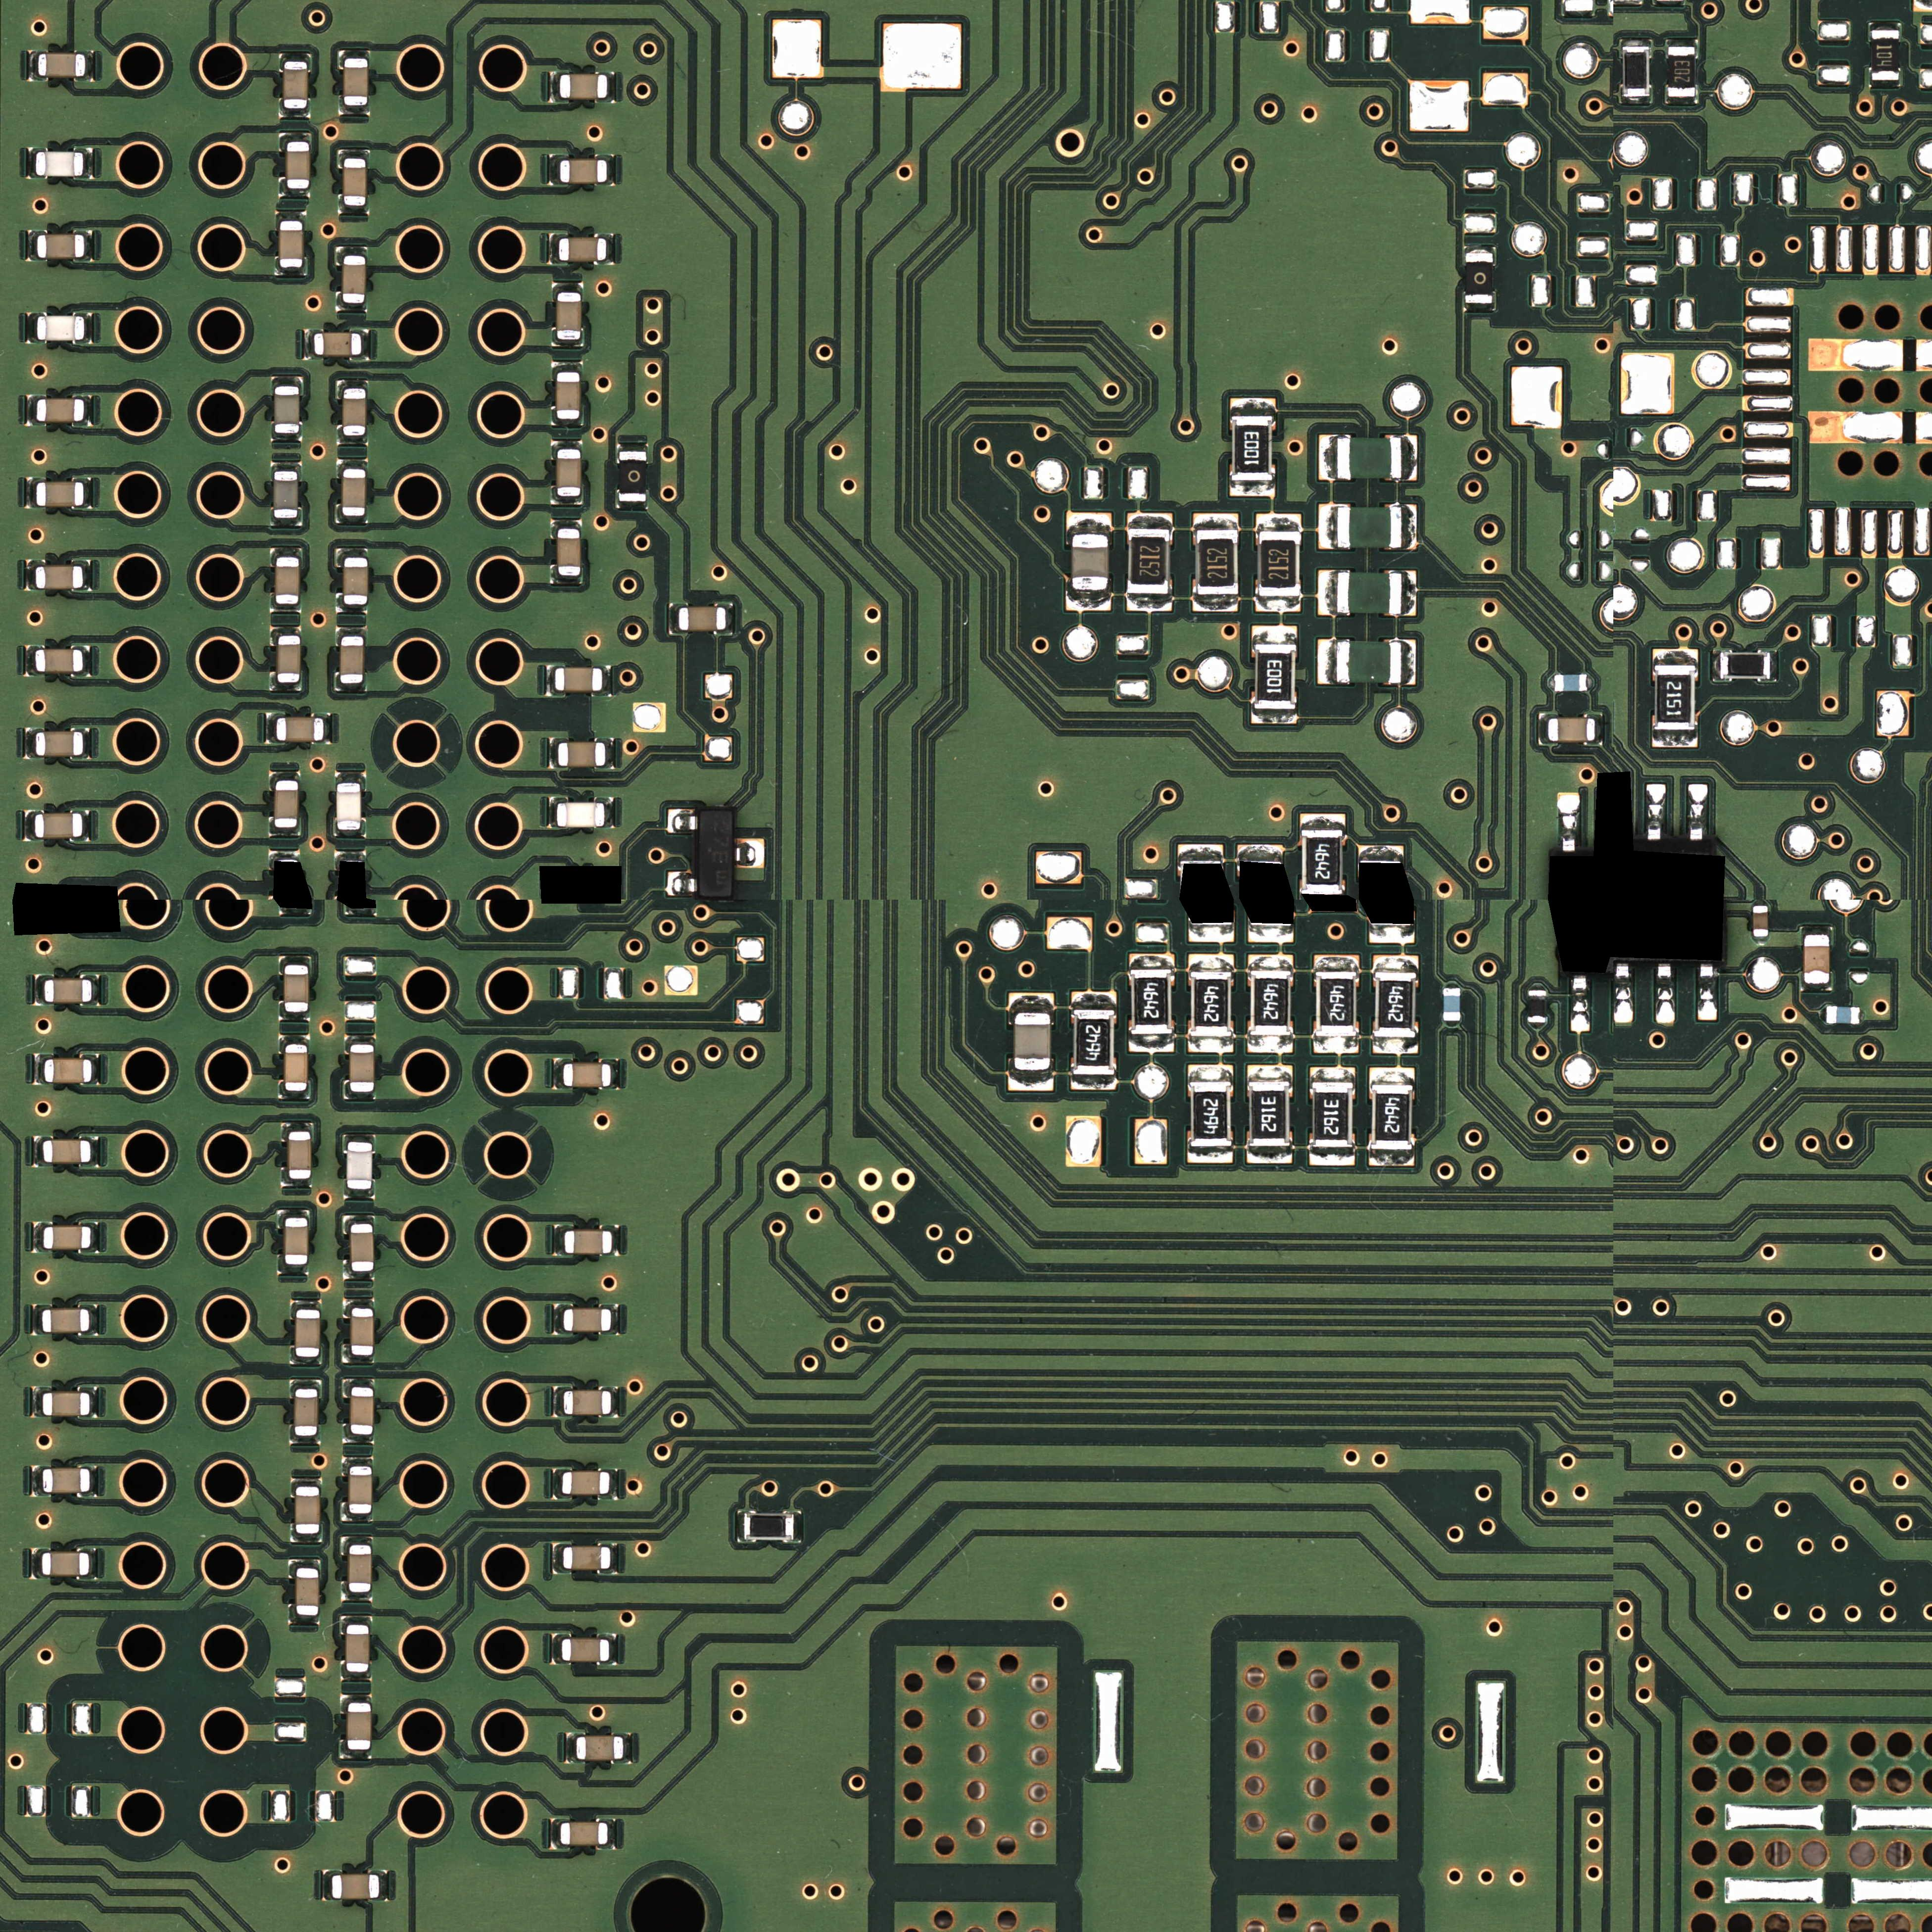Package: (699, 809, 733, 898), (1302, 830, 1345, 894), (1337, 437, 1402, 479), (1131, 970, 1172, 1035), (1258, 532, 1300, 597), (1128, 530, 1169, 594), (1336, 642, 1402, 682), (1336, 574, 1402, 614), (1337, 508, 1403, 548), (1654, 666, 1695, 730), (1312, 1083, 1352, 1148), (1375, 972, 1415, 1038), (1073, 1011, 1114, 1075), (1191, 972, 1231, 1037), (1251, 971, 1291, 1036), (1250, 1082, 1290, 1147), (1197, 531, 1237, 595), (1255, 645, 1295, 709), (1372, 1085, 1412, 1150), (1191, 1082, 1231, 1147), (1232, 417, 1272, 481), (1316, 972, 1356, 1036), (1014, 1013, 1051, 1070), (1071, 534, 1109, 590), (1465, 253, 1493, 303), (1668, 47, 1695, 97), (620, 451, 646, 501), (1872, 30, 1898, 80), (744, 1514, 794, 1540), (1721, 653, 1770, 679), (1623, 47, 1649, 97), (1804, 935, 1830, 984), (346, 1703, 372, 1750), (564, 1390, 611, 1415), (37, 316, 85, 341), (560, 74, 607, 99), (36, 482, 84, 507), (35, 813, 82, 838), (36, 731, 83, 757), (557, 803, 605, 827), (558, 742, 606, 767), (36, 151, 83, 177), (295, 1487, 320, 1534), (295, 1309, 320, 1357), (557, 292, 581, 340), (332, 1875, 380, 1899), (555, 668, 603, 692), (348, 1545, 372, 1593), (556, 449, 581, 496), (337, 783, 361, 830), (43, 1468, 90, 1493), (347, 1143, 372, 1189), (678, 607, 726, 631), (350, 1044, 374, 1092), (559, 238, 606, 262), (343, 557, 368, 605), (345, 1625, 370, 1672), (576, 1737, 624, 1761), (563, 1063, 611, 1087), (37, 234, 85, 258), (283, 62, 308, 108), (275, 386, 299, 433), (561, 1639, 609, 1662), (38, 53, 86, 77), (45, 1059, 92, 1083), (284, 965, 308, 1012), (274, 780, 298, 827), (45, 979, 92, 1003), (560, 1822, 608, 1846), (42, 1309, 90, 1333), (560, 159, 607, 183), (42, 1552, 89, 1576), (564, 1230, 612, 1254), (275, 557, 299, 604), (274, 472, 298, 518), (343, 59, 368, 105), (1548, 718, 1595, 742), (556, 372, 580, 419), (43, 1393, 90, 1416), (294, 1389, 318, 1436), (348, 1466, 372, 1513), (276, 718, 323, 741), (562, 1472, 610, 1495), (563, 1308, 611, 1332), (342, 256, 366, 303), (288, 1131, 311, 1179), (342, 469, 366, 516), (35, 649, 83, 673), (563, 1546, 610, 1570), (37, 399, 84, 422), (342, 388, 366, 435), (350, 1387, 374, 1434), (44, 1226, 91, 1250), (296, 1568, 319, 1615), (36, 566, 83, 589), (44, 1140, 91, 1163), (350, 1308, 374, 1355), (287, 142, 310, 189), (340, 636, 364, 683), (280, 221, 303, 267), (277, 636, 300, 682), (314, 333, 361, 356), (557, 529, 580, 576), (350, 1224, 373, 1271), (285, 1218, 308, 1264), (285, 1045, 307, 1091), (343, 158, 366, 205), (1527, 990, 1547, 1023), (1827, 1007, 1860, 1024), (1554, 675, 1587, 691), (1444, 988, 1460, 1021), (1753, 906, 1768, 936)
Solder: (1645, 784, 1667, 841), (1614, 964, 1634, 1025), (1559, 792, 1579, 851), (1655, 963, 1674, 1023), (1688, 783, 1708, 839), (1571, 974, 1590, 1032), (1698, 965, 1718, 1020), (1066, 512, 1111, 533), (1065, 590, 1111, 611), (1009, 993, 1054, 1012), (1008, 1072, 1054, 1092), (735, 839, 764, 868), (1318, 571, 1336, 616), (1192, 595, 1239, 612), (1129, 1035, 1174, 1053), (1309, 1149, 1355, 1166), (1318, 640, 1336, 684), (1652, 731, 1698, 748), (1248, 1036, 1293, 1053), (1188, 1064, 1233, 1081), (1238, 844, 1283, 861), (1127, 595, 1172, 612), (1319, 505, 1336, 549), (1319, 435, 1336, 480), (1247, 1147, 1292, 1164), (1256, 514, 1301, 531), (1253, 627, 1297, 644), (1071, 993, 1116, 1010), (1248, 1065, 1293, 1081), (1230, 399, 1275, 415), (667, 871, 697, 896), (1369, 1151, 1415, 1166), (1373, 1038, 1419, 1054), (1189, 955, 1234, 971), (1374, 956, 1418, 972), (1314, 1037, 1358, 1053), (1249, 926, 1294, 942), (1371, 926, 1414, 943), (1180, 844, 1223, 861), (1071, 1075, 1118, 1091), (1300, 813, 1347, 828), (1653, 649, 1698, 665), (668, 809, 698, 832), (1188, 1037, 1233, 1053), (1370, 1068, 1415, 1084), (1230, 482, 1275, 497), (1188, 1148, 1233, 1163), (1189, 925, 1233, 941), (1249, 955, 1293, 970), (1314, 956, 1358, 971), (1127, 514, 1172, 529), (1251, 710, 1298, 724), (1129, 954, 1174, 969), (1256, 597, 1301, 612), (1194, 514, 1238, 529), (1403, 435, 1417, 481), (1402, 505, 1417, 550), (1310, 1067, 1355, 1082), (1359, 846, 1403, 860), (1402, 571, 1416, 616), (1402, 639, 1416, 685), (553, 1224, 564, 1256), (265, 713, 276, 743), (303, 329, 314, 359), (32, 1466, 42, 1497), (335, 772, 366, 782), (555, 419, 585, 429), (271, 376, 303, 386), (549, 71, 559, 103), (552, 282, 583, 292), (321, 1870, 331, 1901), (548, 233, 558, 264), (553, 1304, 564, 1334), (270, 547, 303, 557), (552, 362, 582, 372), (552, 1543, 562, 1574), (290, 1379, 322, 1389), (271, 461, 301, 471), (338, 459, 368, 469), (279, 956, 310, 965), (545, 665, 555, 697), (609, 73, 618, 104), (25, 728, 35, 758), (279, 1265, 309, 1275), (1538, 713, 1547, 744), (27, 395, 36, 426), (345, 1035, 376, 1044), (554, 1386, 563, 1417), (336, 627, 367, 636), (279, 1035, 310, 1044), (669, 603, 678, 634), (337, 246, 367, 255), (341, 1615, 372, 1625), (344, 1189, 375, 1199), (726, 604, 736, 635), (610, 1635, 619, 1666), (279, 133, 311, 142), (276, 211, 306, 221), (32, 1548, 41, 1579), (380, 1870, 389, 1900), (343, 1673, 374, 1683), (340, 1694, 372, 1703), (341, 1750, 373, 1759), (90, 1304, 99, 1336), (91, 1387, 100, 1419), (604, 664, 613, 696), (25, 811, 34, 841), (343, 1215, 375, 1224), (34, 1221, 43, 1253), (554, 1058, 563, 1089), (35, 1054, 44, 1085), (92, 1221, 101, 1253), (91, 1465, 100, 1496), (91, 1548, 99, 1579), (609, 1468, 618, 1499), (347, 1273, 378, 1282), (342, 1378, 375, 1387), (290, 1357, 323, 1365), (271, 518, 303, 527), (270, 627, 301, 635), (552, 1634, 561, 1664), (339, 106, 370, 115), (549, 738, 558, 769), (338, 380, 368, 388), (84, 147, 93, 178), (567, 1733, 576, 1763), (550, 154, 559, 185), (607, 155, 616, 186), (606, 234, 615, 264), (93, 1054, 101, 1085), (606, 738, 615, 769), (336, 605, 368, 613), (336, 548, 368, 557), (344, 1299, 374, 1308), (343, 1457, 373, 1466), (270, 771, 300, 780), (339, 49, 370, 58), (27, 149, 36, 179), (85, 230, 94, 260), (87, 50, 96, 81), (29, 50, 38, 80), (272, 828, 302, 837), (336, 850, 366, 859), (289, 1559, 320, 1568), (291, 1300, 321, 1309), (551, 520, 581, 529), (553, 1469, 562, 1498), (361, 330, 370, 359), (290, 1534, 322, 1543), (279, 109, 310, 117), (343, 1435, 374, 1443), (279, 189, 310, 197), (337, 436, 368, 444), (338, 149, 370, 158), (32, 1304, 41, 1336), (323, 714, 332, 743), (335, 516, 367, 524), (342, 1355, 375, 1363), (339, 303, 370, 312), (26, 645, 35, 676), (338, 206, 369, 214), (27, 478, 36, 508), (36, 975, 44, 1006), (34, 1387, 42, 1417), (280, 53, 310, 61), (91, 1136, 99, 1167), (1464, 243, 1495, 252), (552, 440, 582, 449), (28, 313, 37, 343), (548, 797, 556, 827), (272, 683, 302, 691), (93, 975, 101, 1006), (34, 1136, 42, 1166), (605, 797, 614, 827), (552, 497, 583, 505), (341, 1536, 373, 1544), (1666, 97, 1698, 105), (291, 1478, 321, 1486), (27, 561, 35, 590), (290, 1616, 320, 1624), (281, 1091, 310, 1100), (1623, 39, 1652, 47), (270, 604, 301, 612), (342, 1514, 373, 1522), (290, 1436, 321, 1444), (281, 1179, 312, 1187), (271, 434, 302, 441), (279, 1013, 310, 1020), (1801, 984, 1832, 992), (345, 1092, 376, 1100), (553, 577, 583, 584), (1667, 39, 1697, 47), (1464, 304, 1494, 312), (29, 231, 37, 261), (337, 684, 366, 692), (334, 830, 365, 838), (283, 1123, 312, 1131), (612, 1059, 620, 1090), (613, 1225, 621, 1257), (1622, 97, 1652, 104), (1871, 79, 1900, 87), (1871, 22, 1901, 30), (278, 1210, 309, 1217), (618, 443, 647, 451), (619, 503, 648, 511), (1771, 651, 1779, 680), (1712, 651, 1720, 680), (342, 1593, 373, 1600), (1802, 927, 1833, 934), (611, 1543, 619, 1574), (344, 1134, 375, 1142), (85, 480, 93, 509), (83, 562, 91, 592), (83, 645, 91, 675), (83, 729, 91, 759), (83, 810, 91, 840), (1595, 715, 1603, 744), (553, 340, 583, 347), (794, 1511, 801, 1542), (737, 1512, 744, 1543), (624, 1733, 631, 1763), (552, 1820, 559, 1850), (85, 313, 92, 342), (85, 395, 92, 425), (612, 1387, 618, 1418), (608, 1819, 615, 1849), (271, 851, 298, 858), (612, 1305, 618, 1334), (1546, 673, 1554, 693), (1588, 673, 1596, 692), (1819, 1007, 1827, 1023), (1860, 1007, 1867, 1023), (1752, 899, 1770, 905), (1443, 982, 1460, 988), (1444, 1021, 1461, 1027), (1528, 983, 1546, 989), (1529, 1023, 1546, 1029), (1753, 938, 1770, 944)
